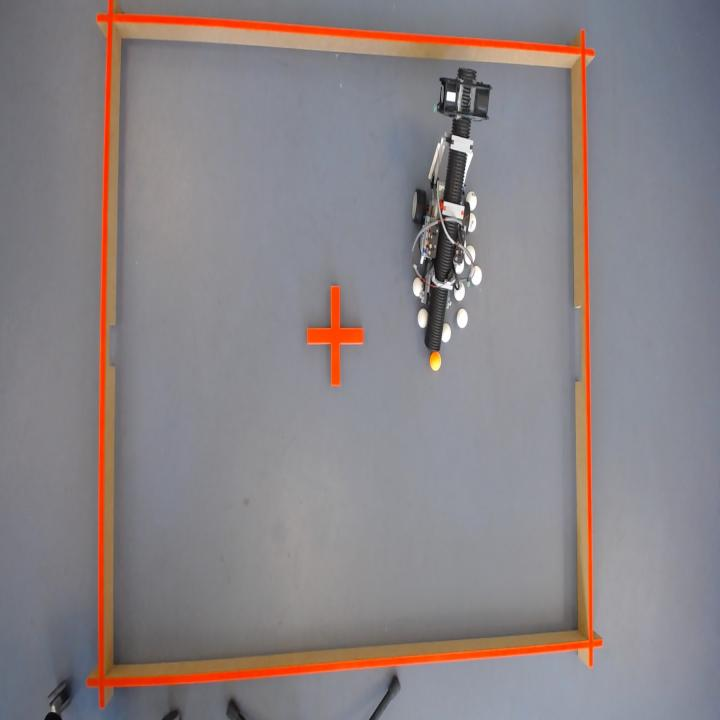orange: (430, 351, 441, 370)
robot: (412, 66, 492, 351)
white: (469, 264, 483, 285), (466, 189, 478, 210), (454, 281, 466, 301), (465, 243, 476, 262), (457, 308, 468, 327), (413, 277, 424, 296), (442, 322, 452, 342), (418, 307, 428, 327), (468, 211, 477, 231), (455, 257, 465, 273)
